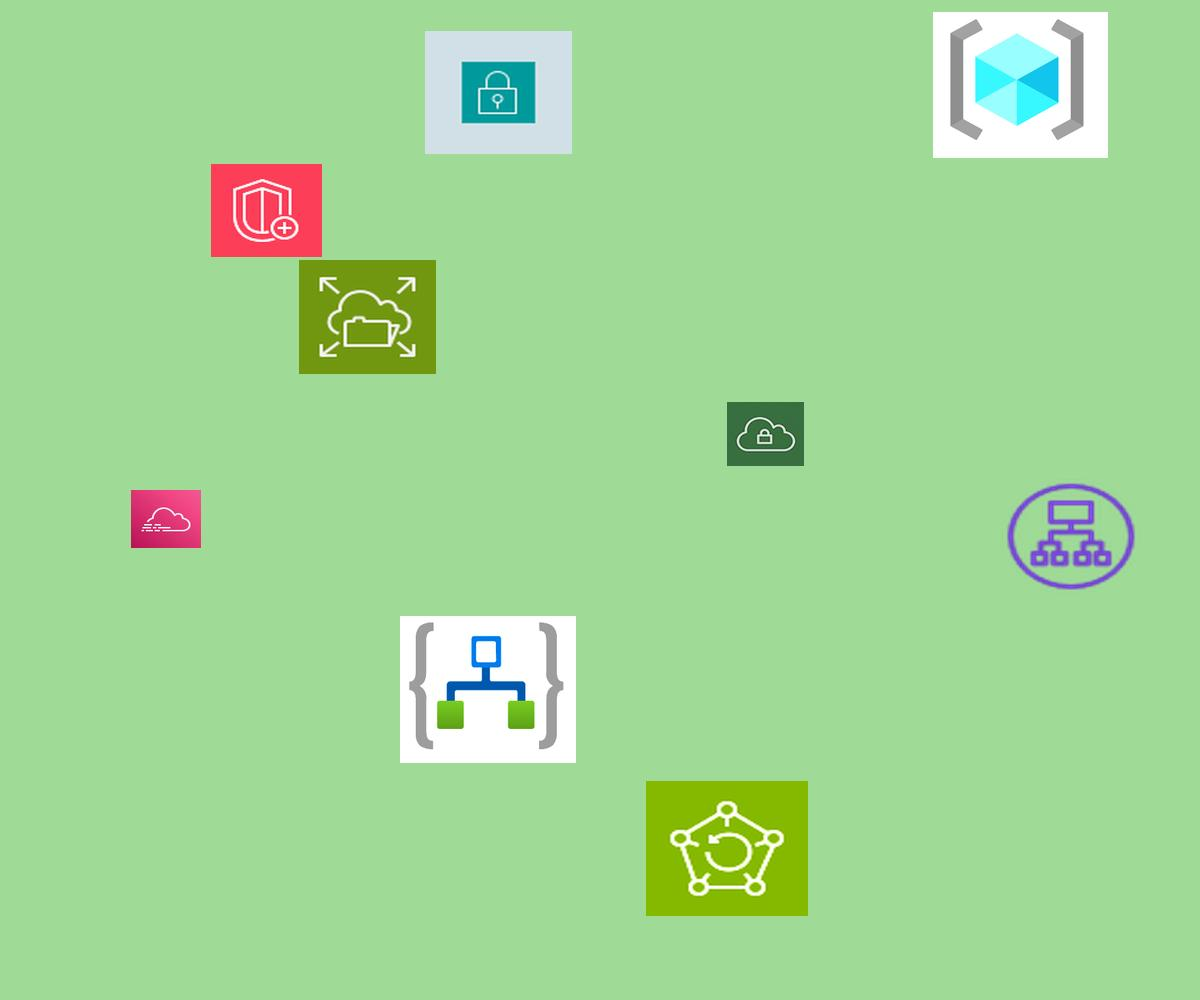AWS-Backup: (646, 781, 808, 916)
AWS-CloudTrail: (131, 490, 201, 548)
AWS-EFS: (299, 260, 436, 374)
AWS-Private-subnet: (425, 31, 572, 154)
AWS-Private_vpc: (727, 402, 804, 466)
AWS-Res_Elastic-Load-Balancing_Application-Load-Balancer: (1002, 479, 1140, 594)
AWS-Shield: (211, 164, 322, 257)
Azure_integration-204-Logic-Apps: (400, 616, 576, 763)
Azure_resource_group: (933, 12, 1108, 158)
